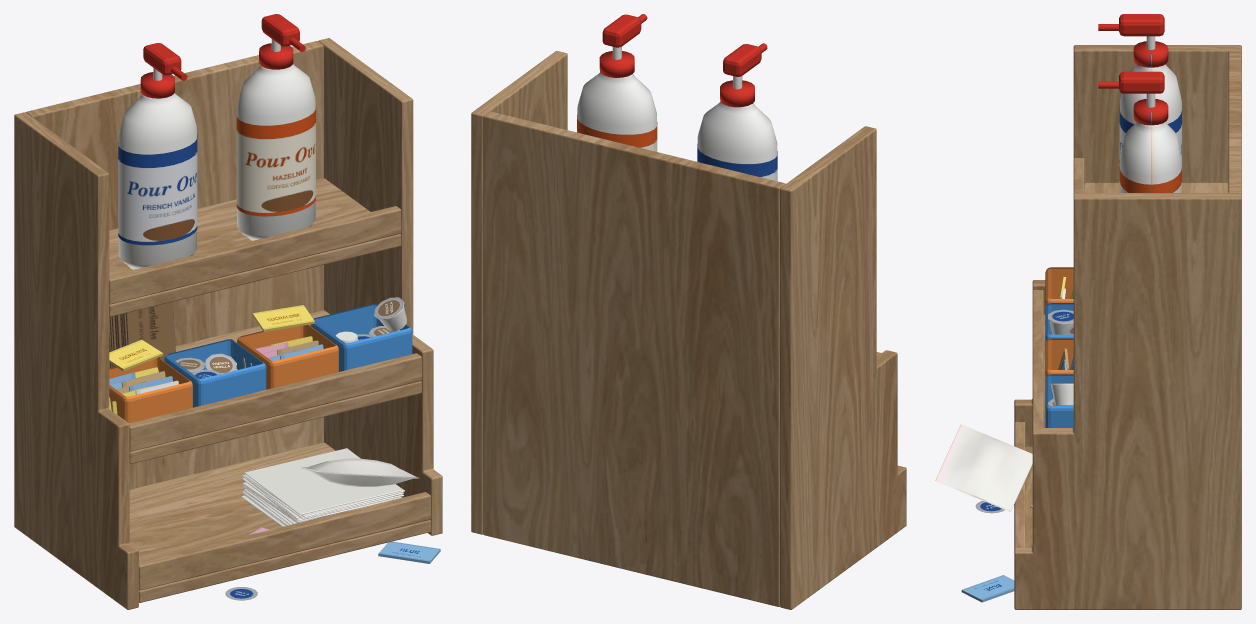
Rendered from hotel-condiment-riser.glb.
3 views of the same model, side by side, from view 1: azimuth 30°, elevation 25°; view 2: azimuth 150°, elevation 25°; view 3: azimuth 270°, elevation 25° (orthographic).
Visible parts, largest first — view 1: oak_veneer, take_creamer_pump001, take_creamer_pump, riser_print, bin_blue, bin_orange, take_napkin, take_sleeve, take_sugar_packet001, take_sugar_packet, pp_white, take_creamer001; view 2: oak_veneer, take_creamer_pump001, take_creamer_pump; view 3: oak_veneer, riser_print, take_creamer_pump001, take_creamer_pump, bin_orange, bin_blue, pp_white, take_creamer001.
Boxes of the visible parts, x1,y1,x2,y2 form: oak_veneer: (14, 38, 442, 609); take_creamer_pump001: (236, 14, 315, 238); take_creamer_pump: (118, 43, 197, 267); riser_print: (109, 237, 440, 600); bin_blue: (164, 303, 412, 407); bin_orange: (109, 324, 338, 422); take_napkin: (244, 448, 402, 514); take_sleeve: (125, 302, 175, 360); take_sugar_packet001: (252, 305, 314, 331); take_sugar_packet: (109, 339, 163, 371); pp_white: (175, 326, 399, 378); take_creamer001: (374, 297, 406, 331); oak_veneer: (471, 51, 906, 609); take_creamer_pump001: (577, 14, 657, 151); take_creamer_pump: (697, 43, 777, 181); oak_veneer: (1014, 45, 1241, 609); riser_print: (935, 277, 1073, 602); take_creamer_pump001: (1098, 71, 1181, 192); take_creamer_pump: (1098, 14, 1181, 165); bin_orange: (1045, 267, 1073, 378); bin_blue: (1045, 303, 1073, 427); pp_white: (1048, 309, 1073, 405); take_creamer001: (1049, 383, 1073, 405).
Bounding box in the file's own units: 0.4 × 0.5935 × 0.3373.
Materials: 5 (2 with a texture image).
